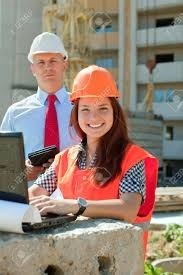helmet: (67, 61, 124, 107), (25, 31, 69, 65)
person with full safety: (36, 65, 157, 223)
person with partial safety: (1, 32, 88, 136)
safety vest: (57, 139, 155, 219)
